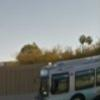buses: (39, 60, 99, 100)
